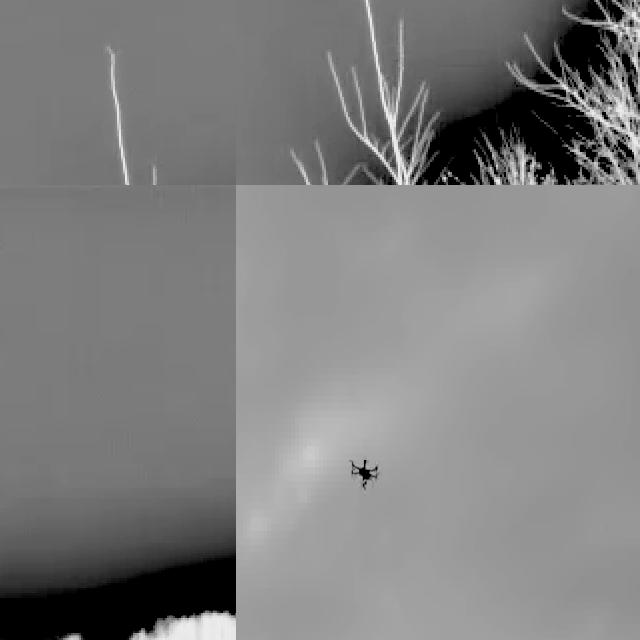drone: (347, 454, 382, 490)
